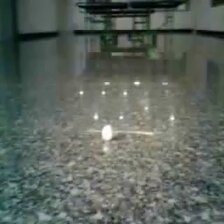w: (101, 123, 115, 142)
